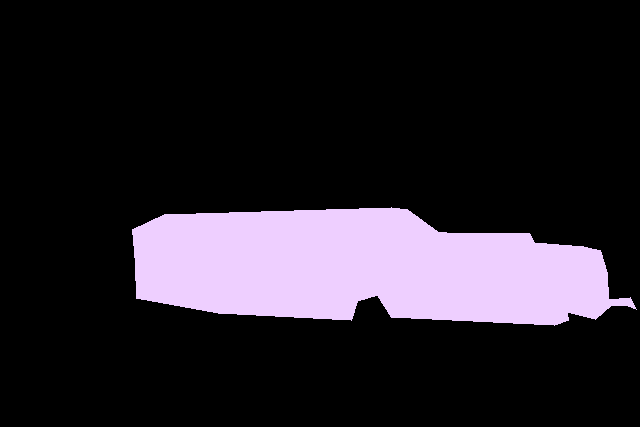Train: (132, 207, 637, 325)
